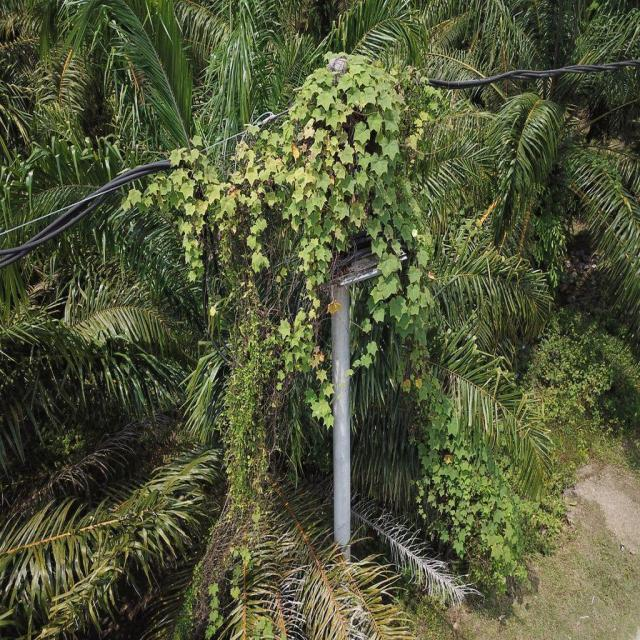critical vegetation: (149, 36, 455, 325), (402, 337, 533, 588), (200, 332, 292, 590)
